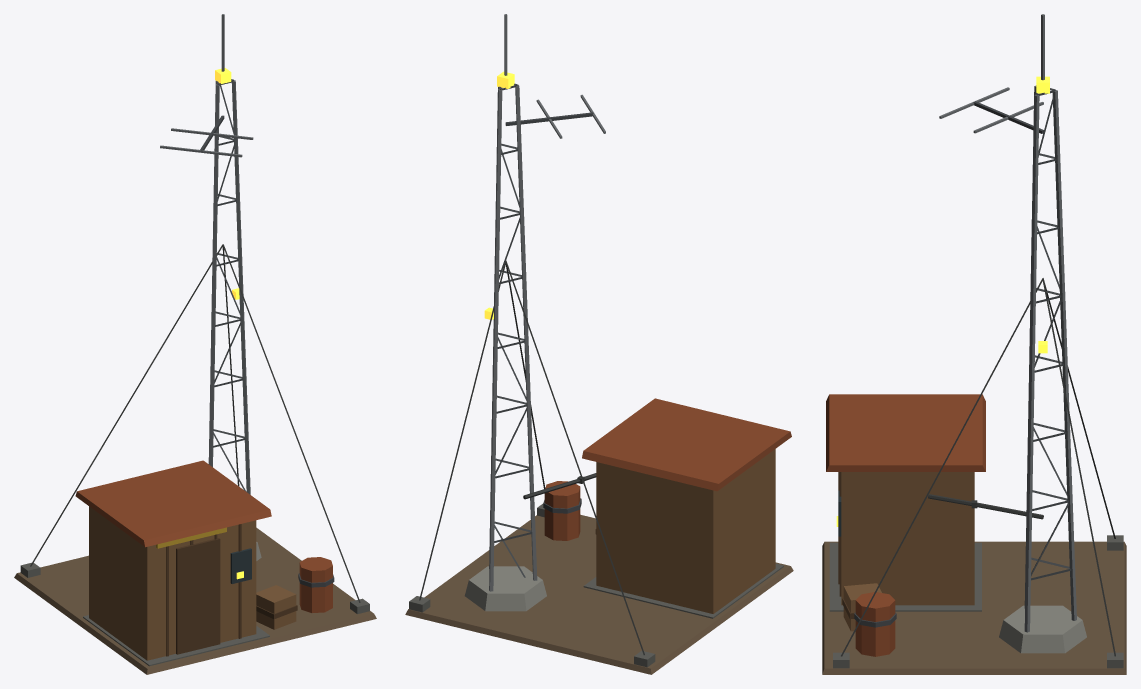
File: radio_mast_l1.glb
3 views of the same model, side by side, from view 1: azimuth 30°, elevation 25°; view 2: azimuth 150°, elevation 25°; view 3: azimuth 270°, elevation 25° (orthographic). The views are drawn at different scales.
Visible parts, largest first — view 1: radio_mast_l1_mesh; view 2: radio_mast_l1_mesh; view 3: radio_mast_l1_mesh.
Part boxes in pixels (bbox=[...]): radio_mast_l1_mesh: bbox=[14, 14, 376, 674]; radio_mast_l1_mesh: bbox=[405, 14, 793, 674]; radio_mast_l1_mesh: bbox=[822, 14, 1126, 674].
Size of the model in its own units: 4 by 9.1 by 4.
